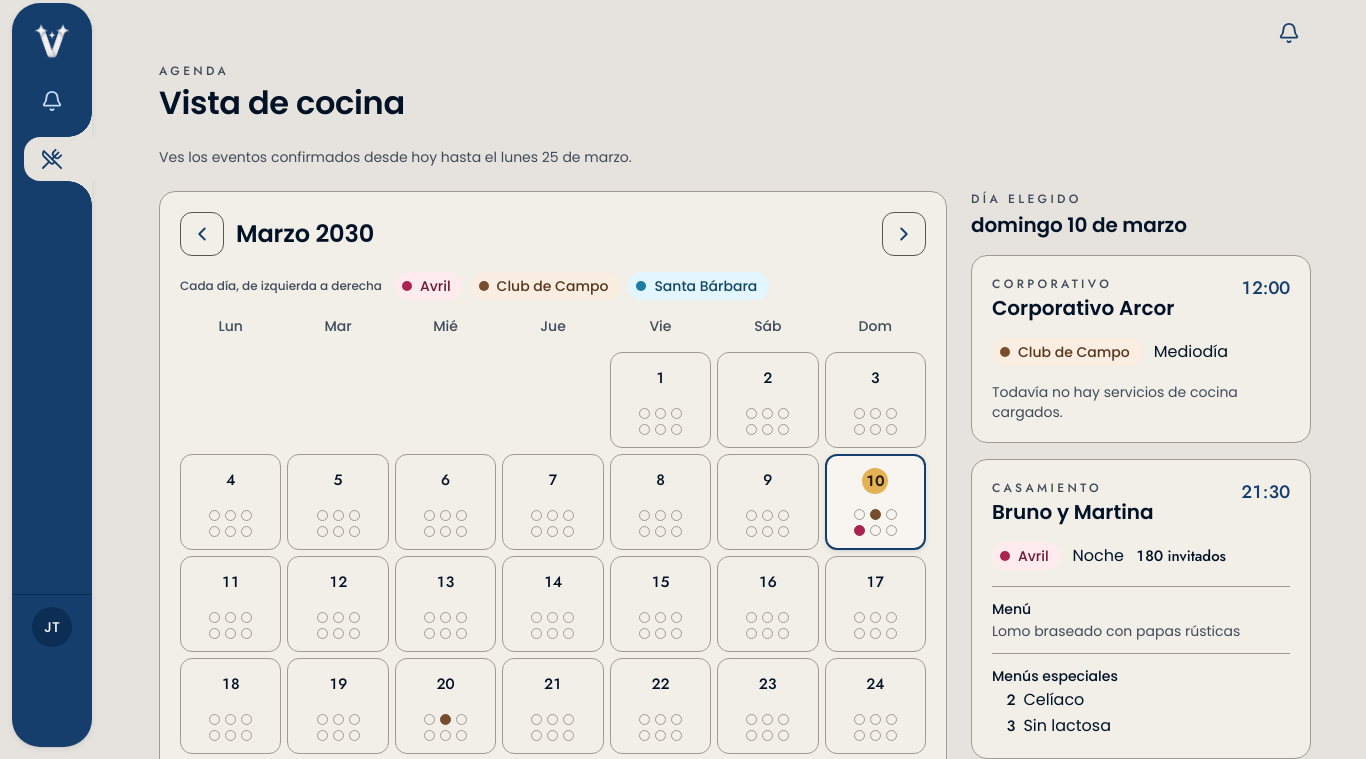
Test case: A7-02 · vista de cocina › elegir otro día muestra sus eventos o explica por qué no hay
(page scrolled)
What coordinates should you click on to do the following:
click the button named "miércoles 20 de marzo"
I would click on:
 (446, 706)
Its box is [395, 658, 496, 754].
(page scrolled)
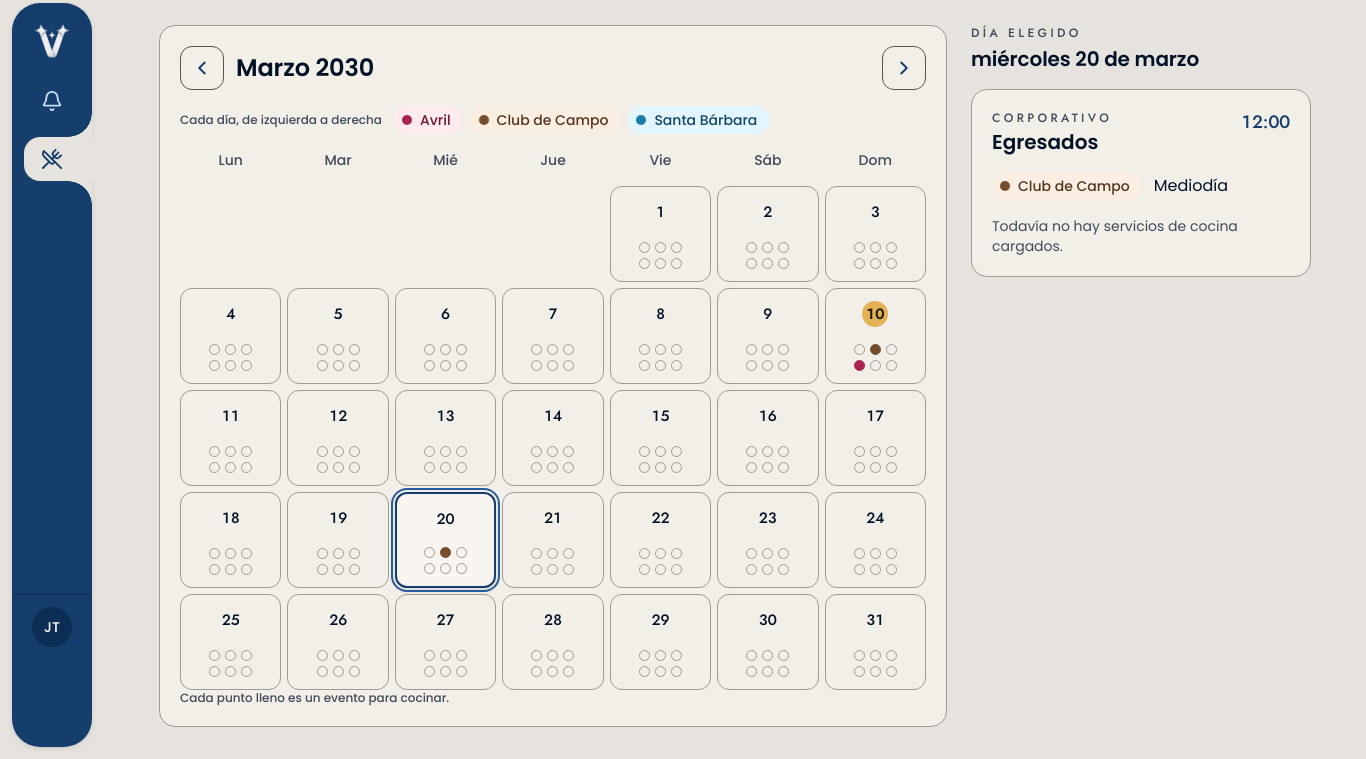
Expected: the heading "Egresados" is shown, [992, 128, 1112, 156]
What coordinates should you click on to do the following:
click the button named "sábado 30 de marzo"
I would click on:
 (768, 642)
Its box is [717, 594, 818, 690].
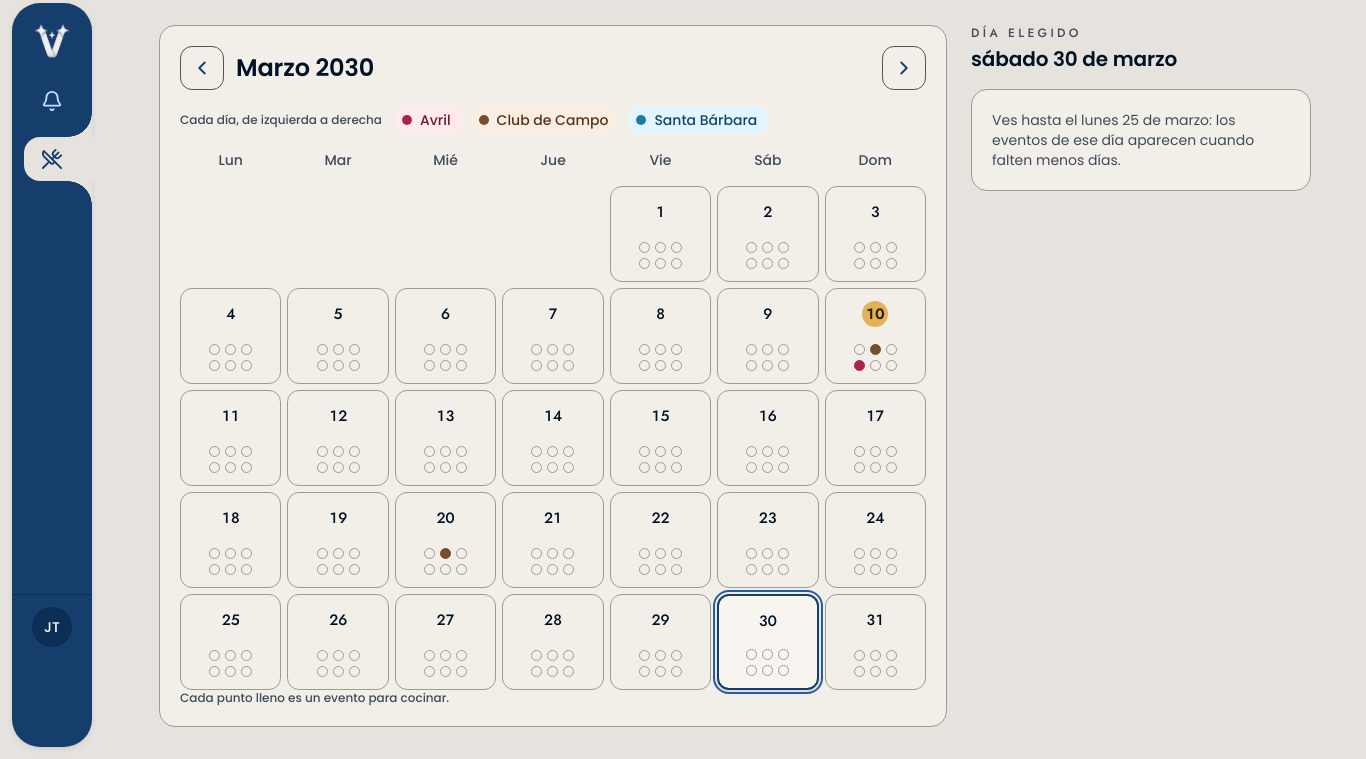
Expected: the text "los eventos de ese día aparecen cuando falten menos días" is shown, [992, 110, 1254, 170]
What coordinates should you click on to do the following:
click the button named "jueves 14 de marzo"
I would click on:
 (553, 438)
Its box is [502, 390, 604, 486].
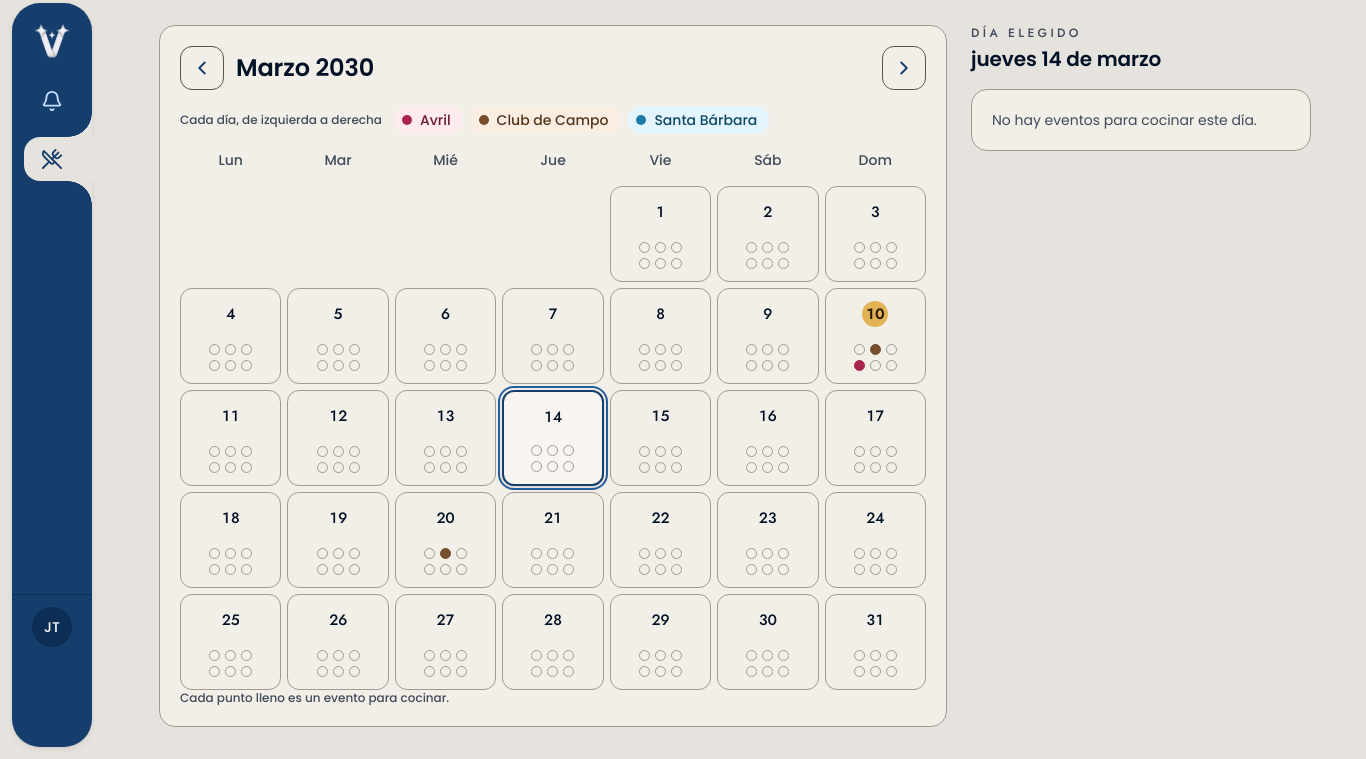
Expected: the text "No hay eventos para cocinar este día." is shown, [992, 110, 1290, 130]
